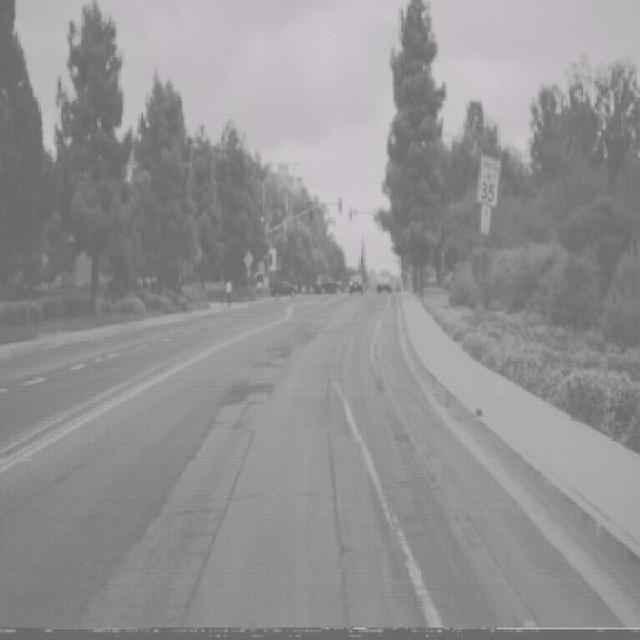speedLimit35: (477, 152, 501, 208)
